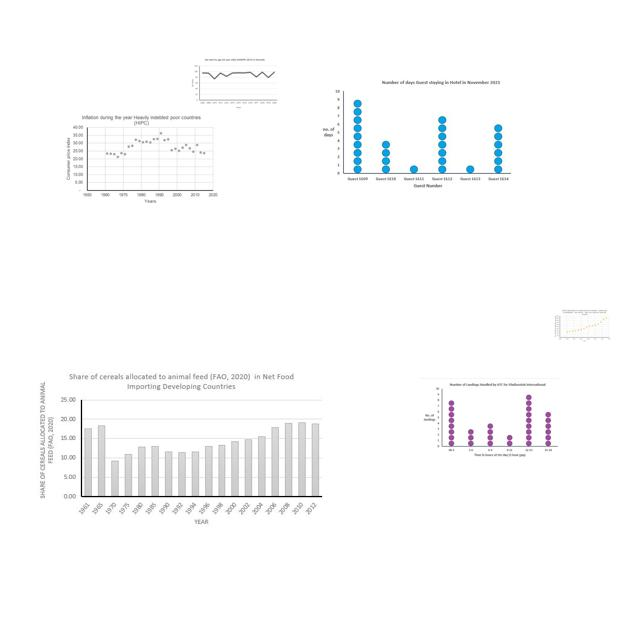Graph: (37, 367, 327, 527), (320, 78, 511, 191), (65, 114, 219, 204), (419, 378, 561, 461), (188, 57, 282, 111), (554, 309, 612, 343)
